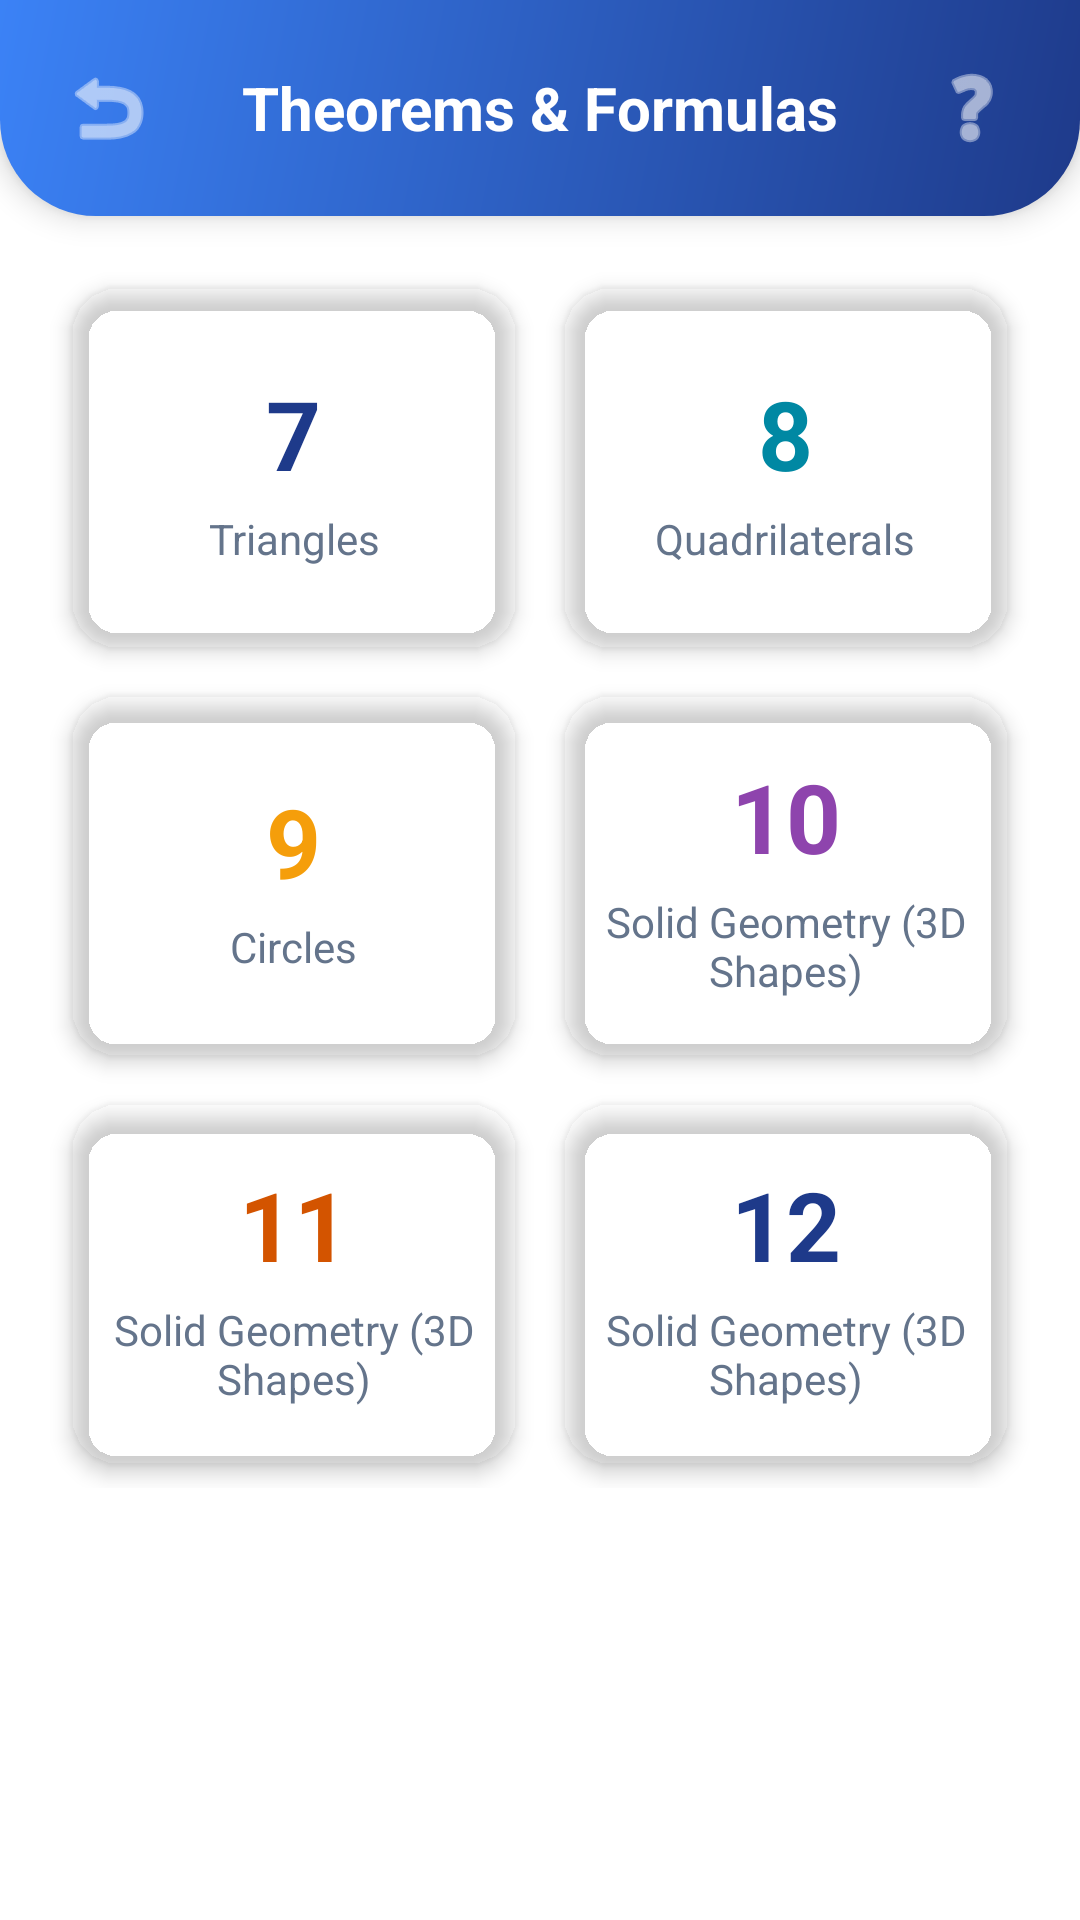

Where icons sit on this 1080x1920 app screen, as (x1, y1, x2, y2):
help: (951, 74, 993, 142)
revert: (75, 77, 144, 140)
